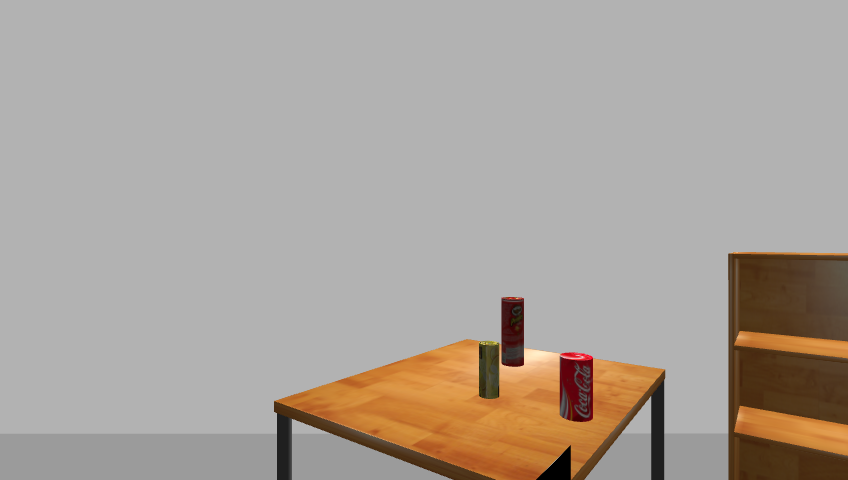aruco marker: (529, 446, 575, 480)
biscuits pack: (477, 340, 501, 400)
bookshelf: (722, 250, 848, 480)
coke can: (558, 353, 596, 422)
dinner table: (268, 339, 674, 480)
pringles can: (499, 296, 527, 369)
